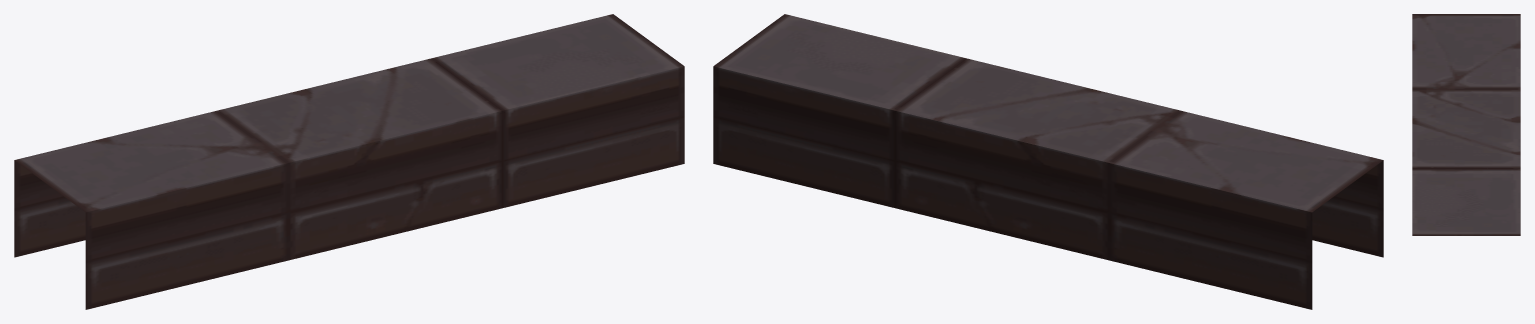
The model's file is sn_jixie_aiqiang_001.FBX.
The picture shows the model from 3 angles, left to right: view 1: azimuth 30°, elevation 25°; view 2: azimuth 150°, elevation 25°; view 3: azimuth 270°, elevation 25°; orthographic projection. The views are drawn at different scales.
Visible parts, largest first — view 1: sn_jixie_aiqiang_001; view 2: sn_jixie_aiqiang_001; view 3: sn_jixie_aiqiang_001.
Part boxes in pixels (bbox=[...]): sn_jixie_aiqiang_001: bbox=[14, 14, 684, 309]; sn_jixie_aiqiang_001: bbox=[713, 14, 1383, 309]; sn_jixie_aiqiang_001: bbox=[1412, 14, 1520, 235].
Bounding box in the file's own units: 13.01 × 2.69 × 2.02.
